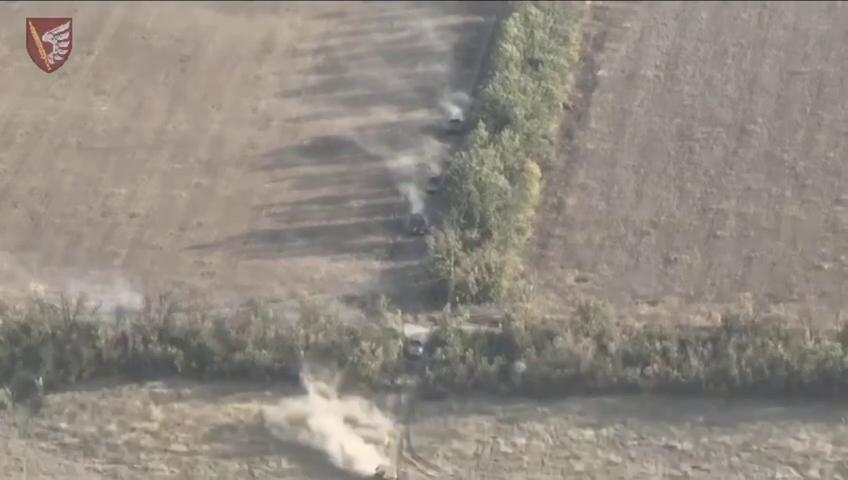tank: (408, 208, 432, 241), (443, 102, 464, 135), (405, 333, 428, 359), (424, 168, 443, 198), (372, 460, 399, 480)
